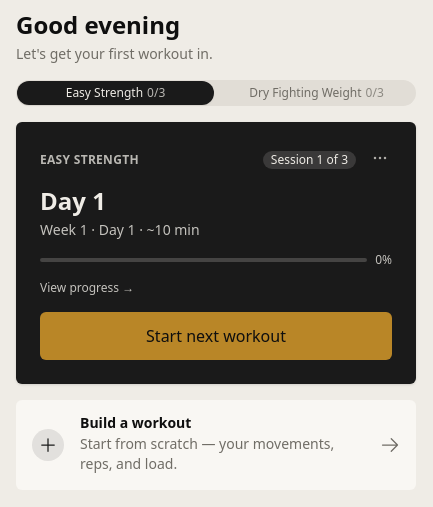
StartWorkoutPage parallel programs › offers the first program by default and switches the card on demand
This screenshot has width=433, height=507.
Check: the heading "Day 1" is shown, box top-left (40, 184), bottom-right (106, 217)
Check: the text "Ladders 1-2-3" is not shown
Click the tab "Dry Fighting Weight 0/3": (316, 93) top-left (218, 81), bottom-right (415, 105)
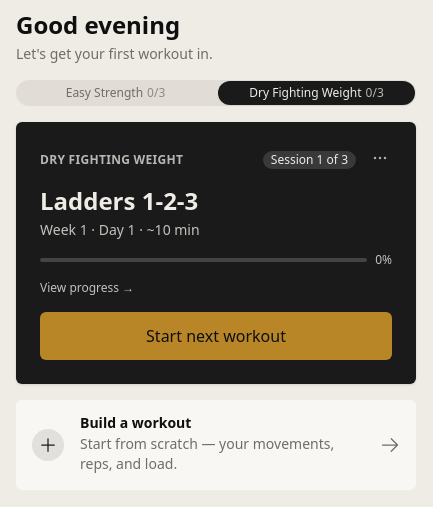
Check: the heading "Ladders 1-2-3" is shown, box top-left (40, 184), bottom-right (198, 217)
